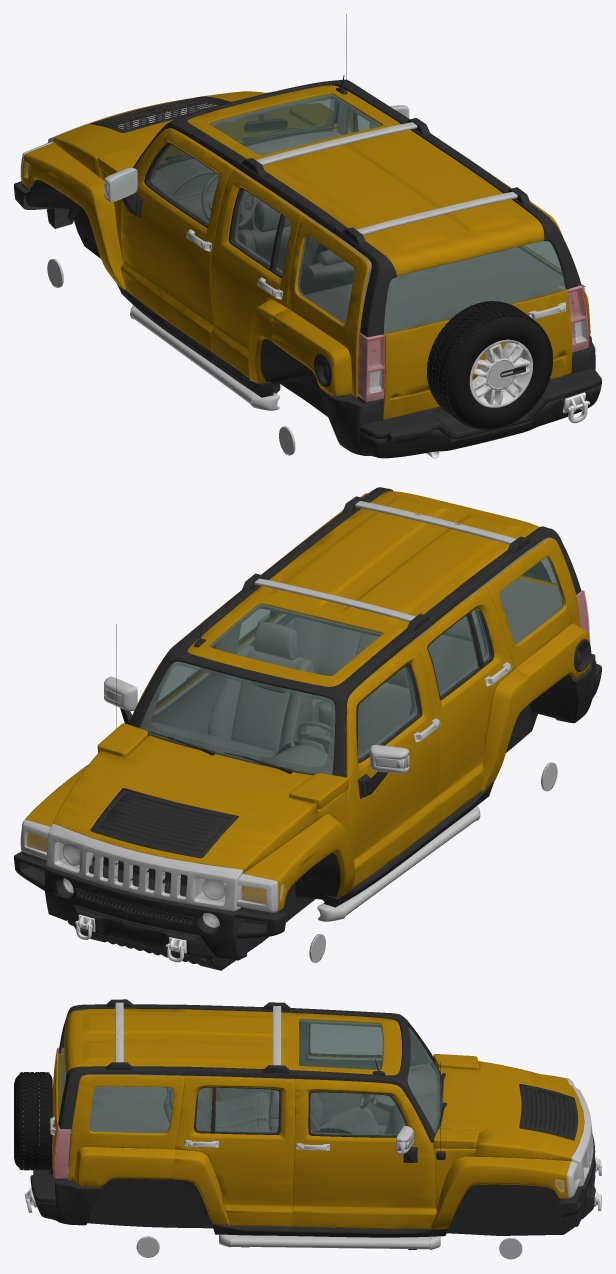
Rendered from trail-scout.glb.
3 renders of one model, top to bottom at view 1: azimuth 30°, elevation 25°; view 2: azimuth 150°, elevation 25°; view 3: azimuth 270°, elevation 25°, orthographic. The views are drawn at different scales.
Parts seen in each view (by area): view 1: Body, Spare, Steering; view 2: Body; view 3: Body, Spare.
Boxes of the visible parts, x1,y1,x2,y2 form: Body: (14, 14, 601, 458); Spare: (427, 301, 553, 430); Steering: (201, 174, 256, 227); Body: (14, 487, 601, 970); Body: (24, 999, 601, 1259); Spare: (14, 1072, 52, 1170).
Size of the model in its own units: 2.07 by 1.72 by 4.45.
